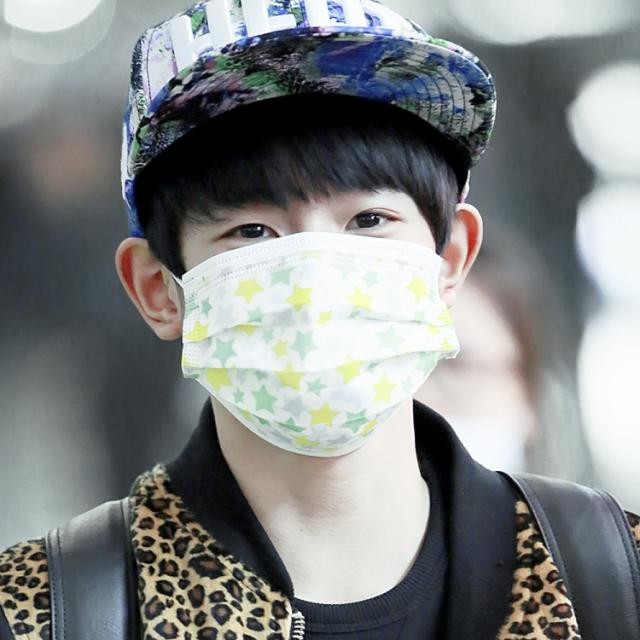mask: (187, 109, 436, 418)
